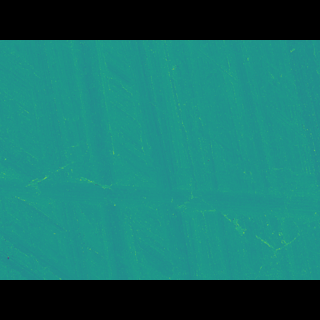Loch: (0, 172, 320, 210), (181, 71, 319, 151)
